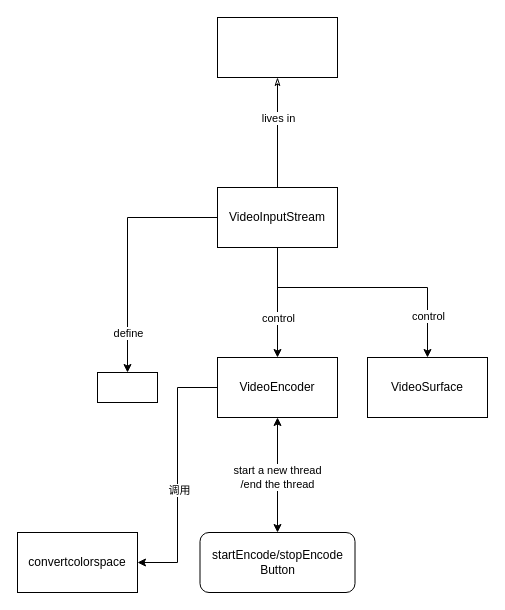
Image size: 505x610. Some labels were removed from this diagram. The shapes that lost their labels are listed below. From the top down, each one's centre as x and y in pixels, then its label:
At point 277,47: "MainWindow".
At point 127,387: "Data".
